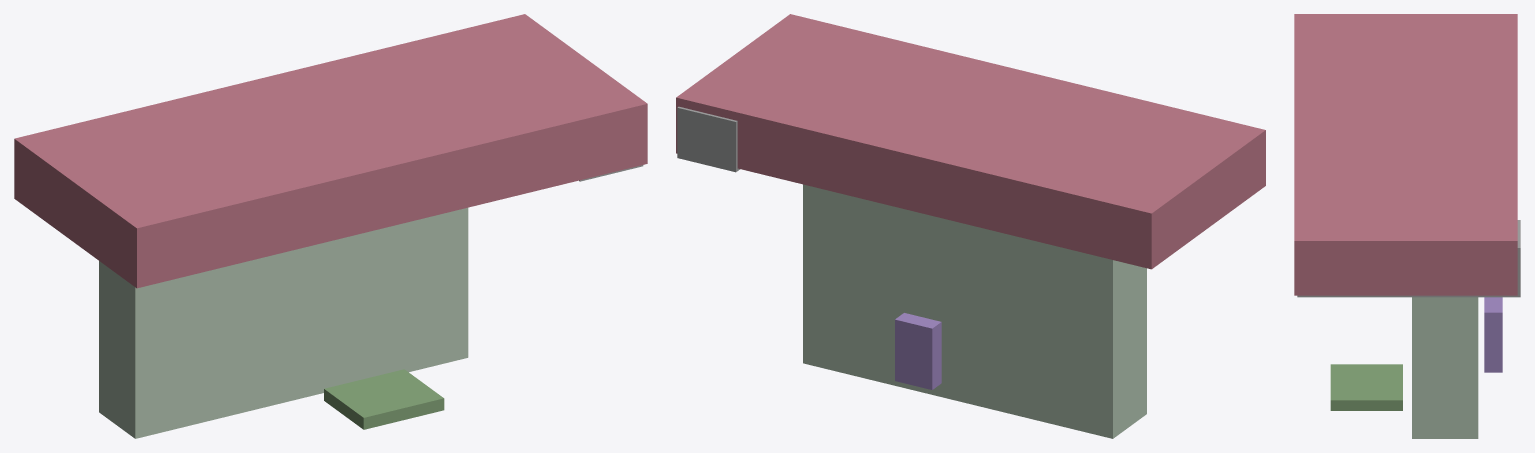
File: 199530_pred.glb
The picture shows the model from 3 angles, left to right: view 1: azimuth 30°, elevation 25°; view 2: azimuth 150°, elevation 25°; view 3: azimuth 270°, elevation 25°; orthographic projection. The views are drawn at different scales.
Visible parts, largest first — view 1: world; view 2: world; view 3: world.
Boxes of the visible parts, x1,y1,x2,y2 form: world: (14,14,647,438); world: (676,14,1265,438); world: (1294,14,1520,438).
Size of the model in its own units: 8.9 by 4.6 by 3.75.
